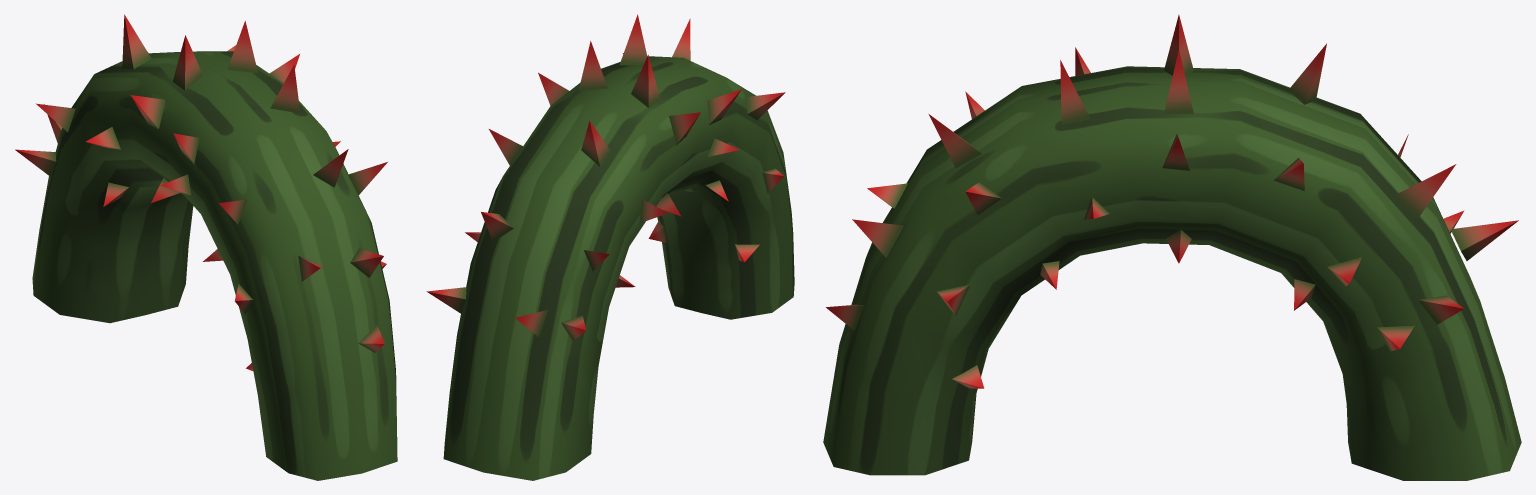
File: Vines_U.fbx
The picture shows the model from 3 angles, left to right: view 1: azimuth 30°, elevation 25°; view 2: azimuth 150°, elevation 25°; view 3: azimuth 270°, elevation 25°; orthographic projection. The views are drawn at different scales.
Visible parts, largest first — view 1: Vine_U; view 2: Vine_U; view 3: Vine_U.
Part boxes in pixels (x1=…): Vine_U: x1=15, y1=14, x2=397, y2=480; Vine_U: x1=426, y1=14, x2=794, y2=480; Vine_U: x1=823, y1=15, x2=1521, y2=480.
Size of the model in its own units: 2.67 by 4.77 by 7.33.
